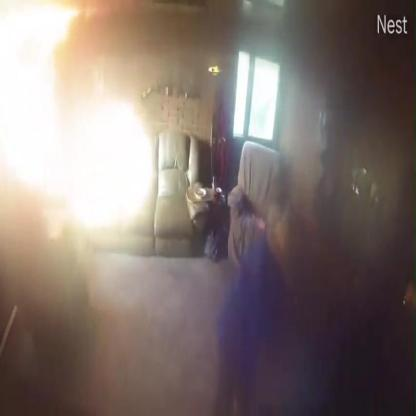fire: (1, 1, 80, 200)
